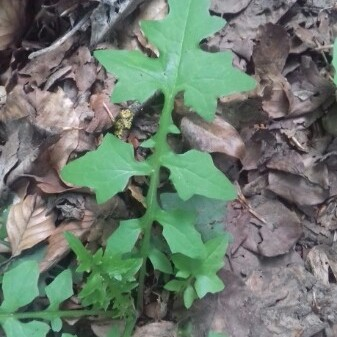obstacle: (77, 18, 235, 289)
